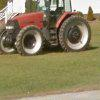Tractor: (4, 5, 100, 63)
